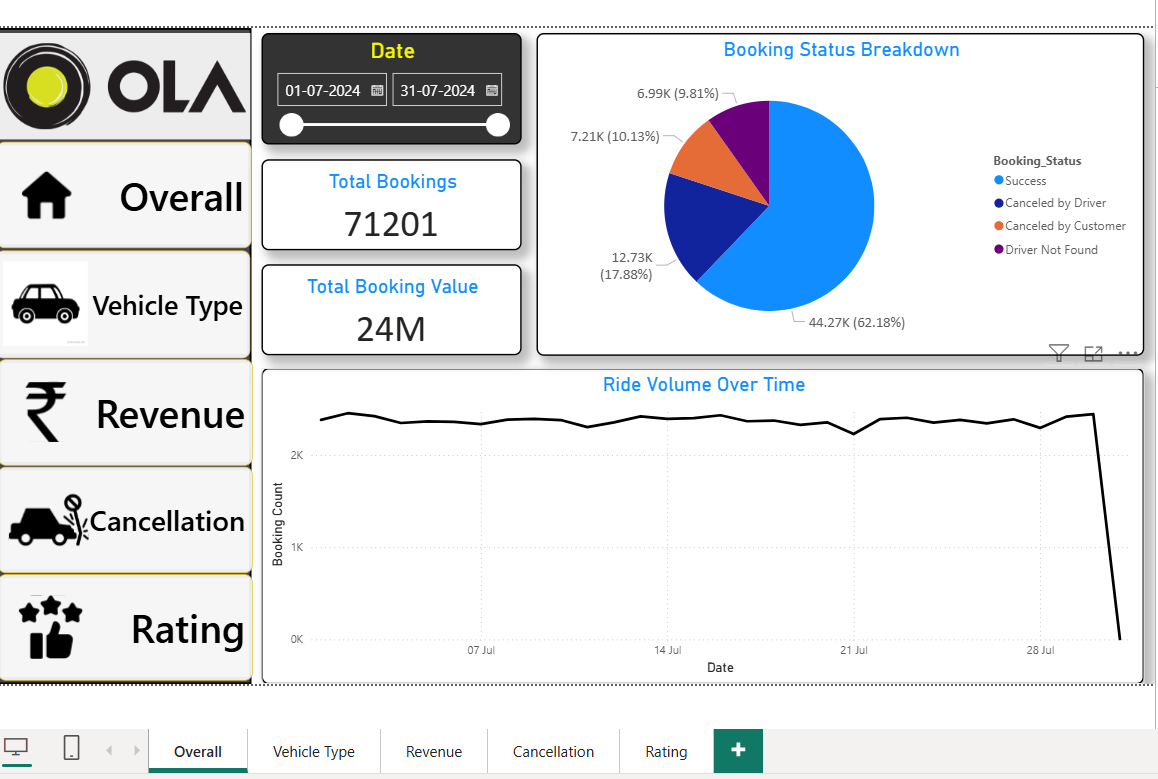

The page's visual inventory and layout, read from the dashboard file:
{"tool":"powerbi","page":{"name":"Overall","canvas":[1280,720],"ordinal":0},"visuals":[{"type":"shape","box":[9.6,0,278.6,720.4],"z":0},{"type":"image","box":[11,5.5,275.8,116.6],"z":1000},{"type":"actionButton","box":[8.2,124.9,279.9,116.6],"z":2000},{"type":"actionButton","box":[9.6,363.6,279.9,116.6],"z":3000},{"type":"actionButton","box":[9.6,481.6,279.9,116.6],"z":4000},{"type":"actionButton","box":[9.6,599.7,279.9,116.6],"z":5000},{"type":"actionButton","box":[6.9,244.3,279.9,118],"z":6000},{"type":"lineChart","title":"Ride Volume Over Time","fields":{"Y":["CountNonNull(Sheet1.Booking_ID)"],"Category":["Sheet1.Date"]},"box":[299.1,373.2,968.8,347.2],"z":7000},{"type":"pieChart","title":"Booking Status Breakdown","fields":{"Category":["Sheet1.Booking_Status"],"Y":["CountNonNull(Sheet1.Booking_Status)"]},"box":[601,5.5,666.9,354],"z":8000},{"type":"slicer","title":"Date","fields":{"Values":["Sheet1.Date"]},"box":[299.1,5.5,285.4,122.1],"z":9000},{"type":"card","title":"Total Bookings ","fields":{"Values":["CountNonNull(Sheet1.Booking_ID)"]},"box":[299.1,144.1,285.4,100.2],"z":10000},{"type":"card","title":"Total Booking Value","fields":{"Values":["Sum(Sheet1.Booking_Value)"]},"box":[299.1,259.3,285.4,100.2],"z":11000}]}

Visuals, with their boxes on the page's 1280x720 design canvas (x1, y1, x2, y2). These are canvas units, not pixel positions in the 1158x779 screenshot, which may show the page scaled, cropped or inside an application window:
shape: x1=10 y1=0 x2=288 y2=720
image: x1=11 y1=6 x2=287 y2=122
actionButton: x1=8 y1=125 x2=288 y2=242
actionButton: x1=10 y1=364 x2=290 y2=480
actionButton: x1=10 y1=482 x2=290 y2=598
actionButton: x1=10 y1=600 x2=290 y2=716
actionButton: x1=7 y1=244 x2=287 y2=362
"Ride Volume Over Time" lineChart: x1=299 y1=373 x2=1268 y2=720
"Booking Status Breakdown" pieChart: x1=601 y1=6 x2=1268 y2=360
"Date" slicer: x1=299 y1=6 x2=584 y2=128
"Total Bookings " card: x1=299 y1=144 x2=584 y2=244
"Total Booking Value" card: x1=299 y1=259 x2=584 y2=360
